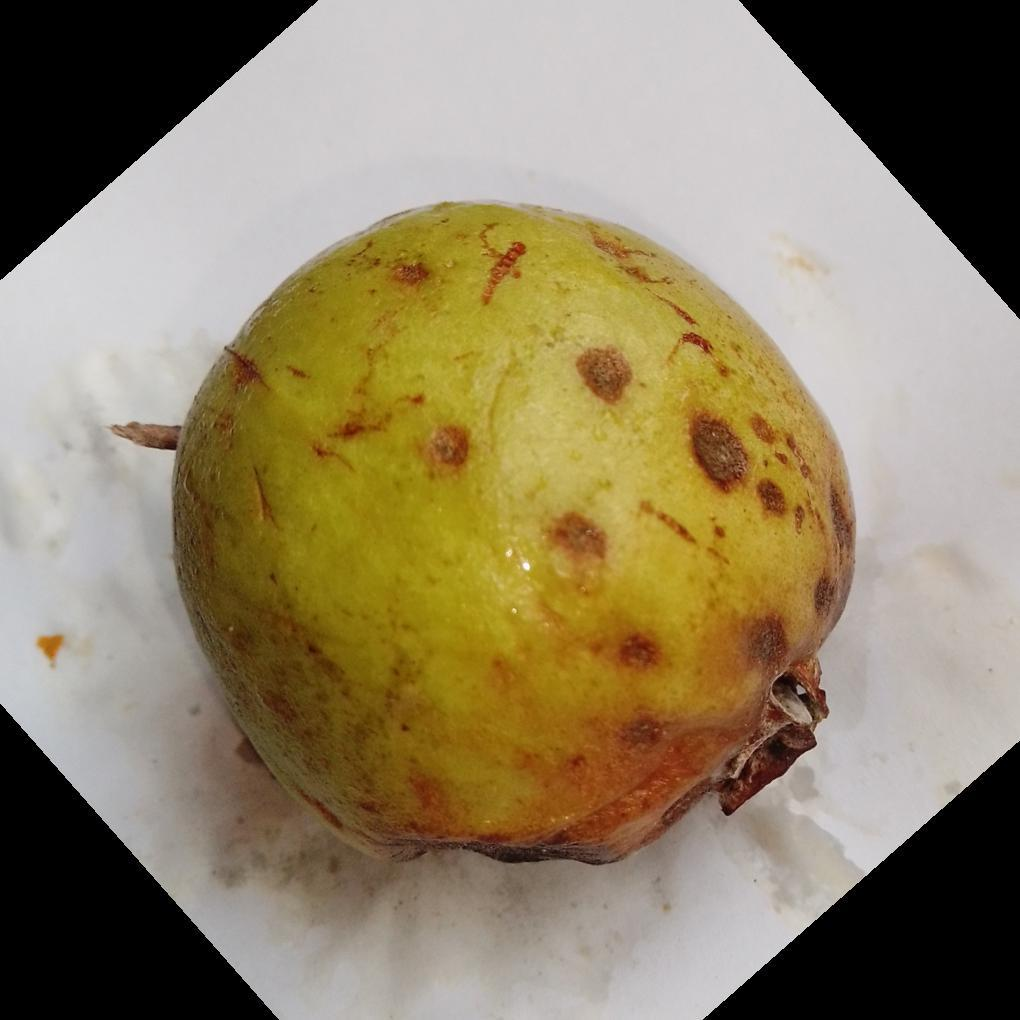FreshOrange: (168, 201, 857, 866)
